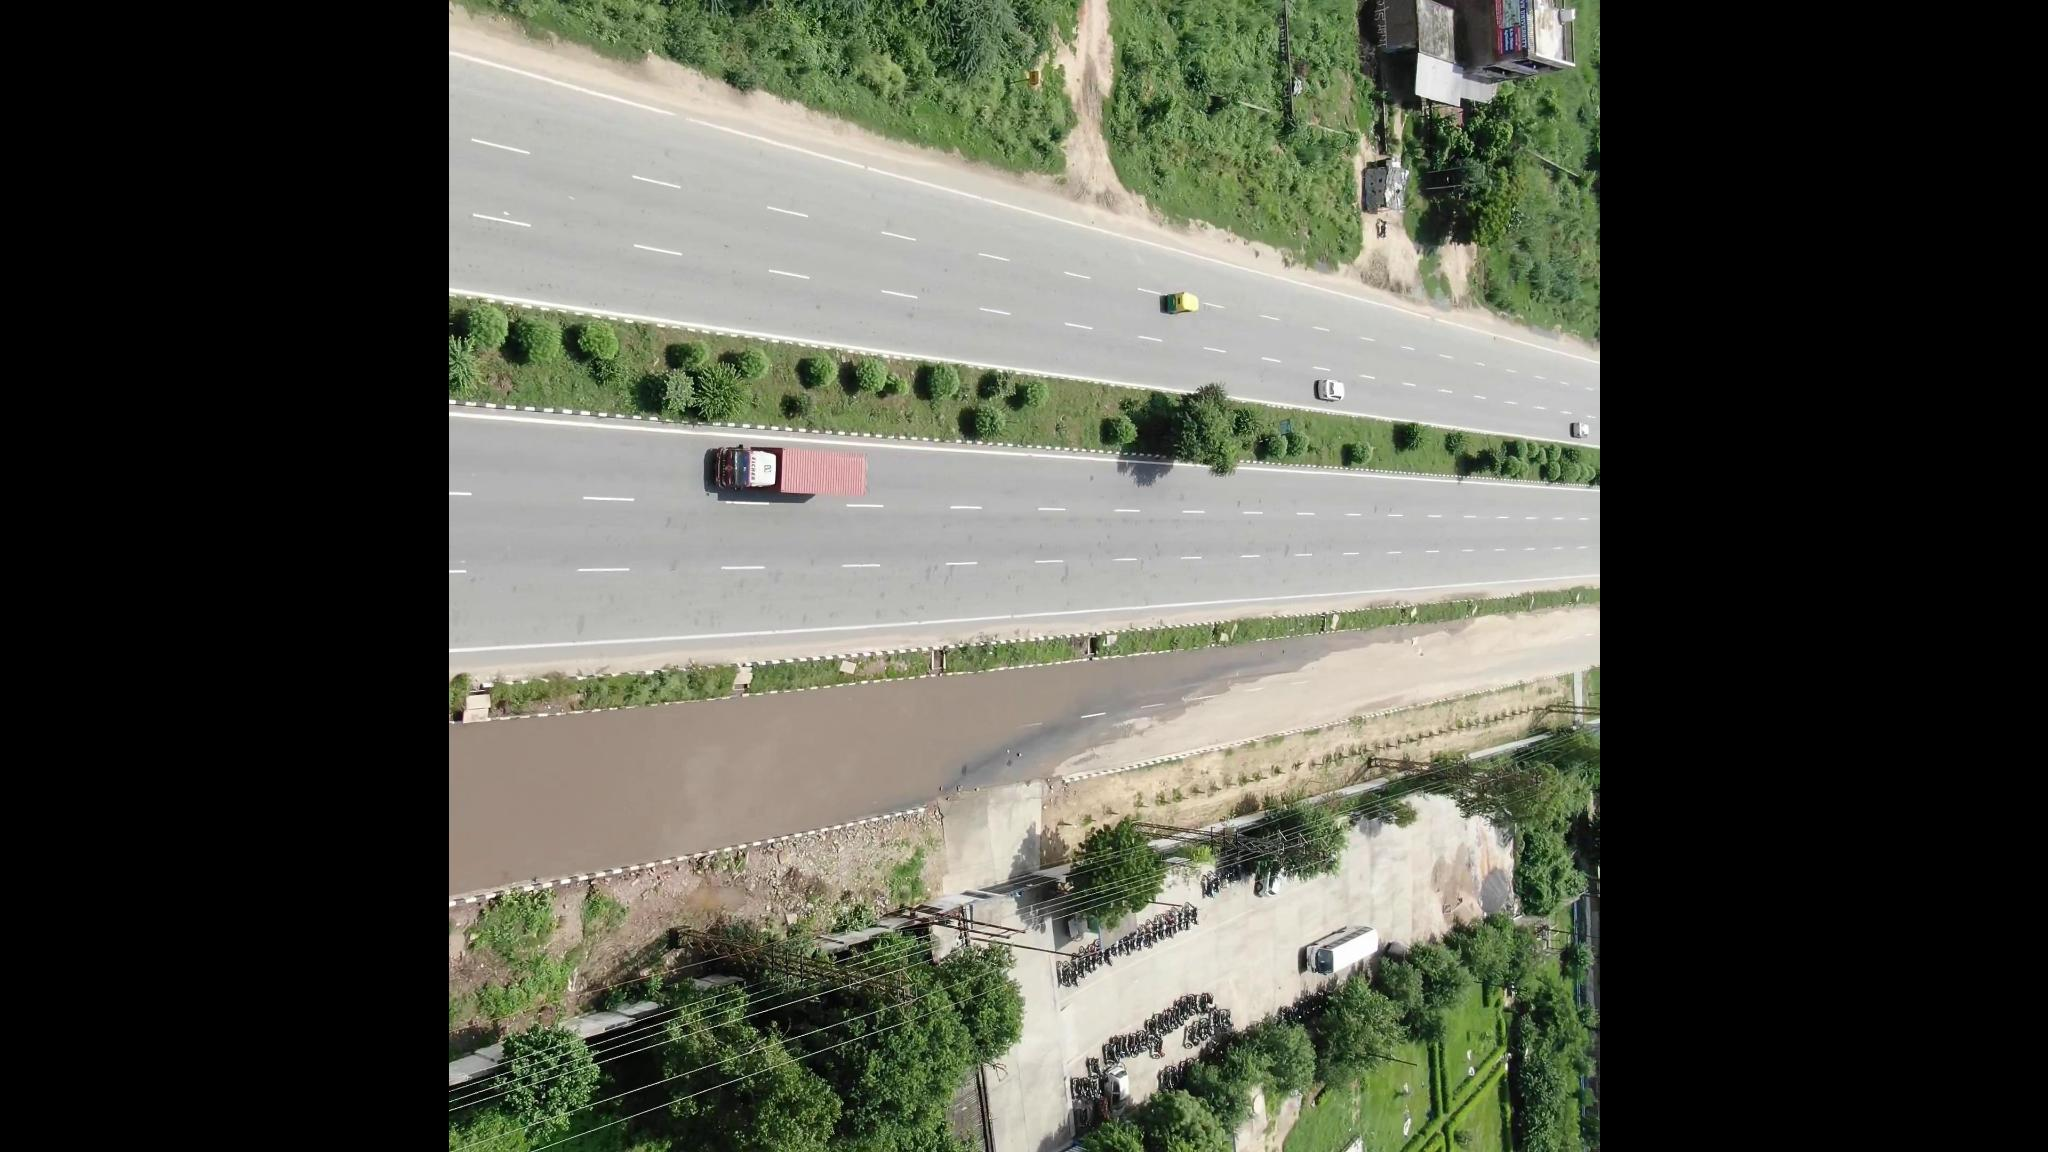Waterlogging: (630, 663, 1245, 845)
